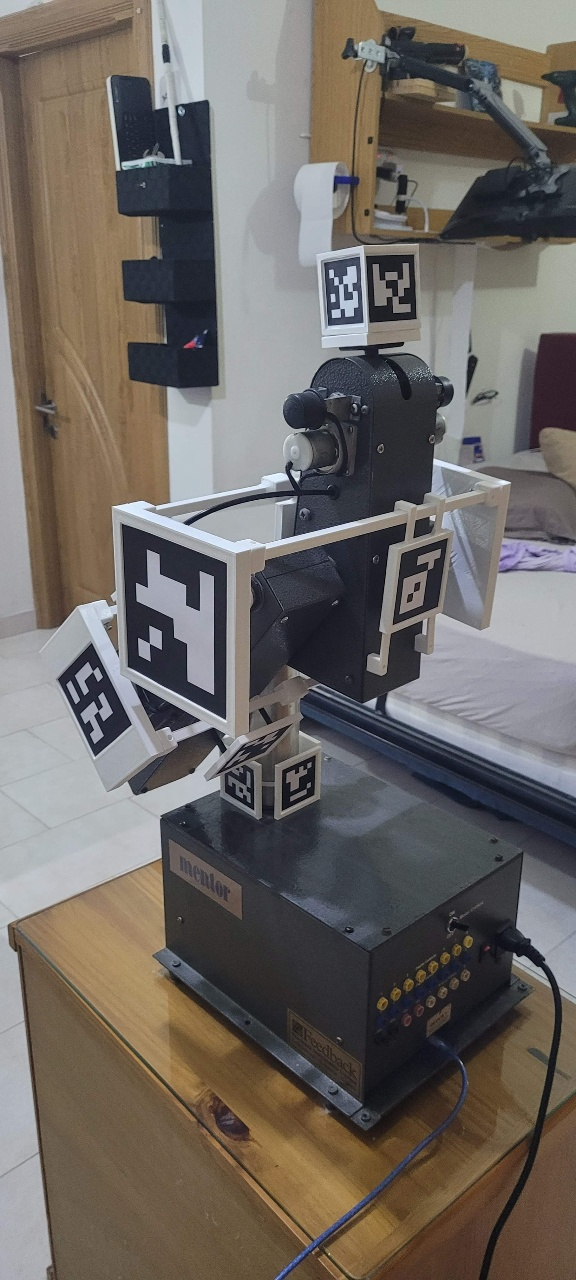Robot: (37, 244, 513, 821)
